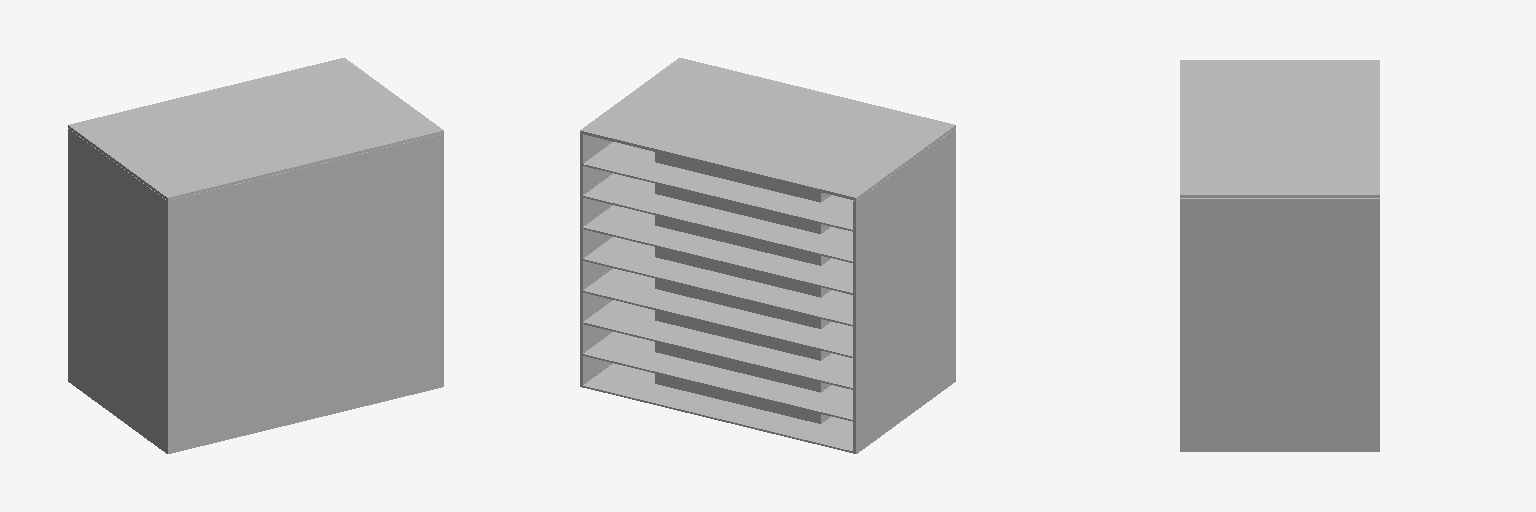
File: 赤土崎多功能館_最終版.obj
3 renders of one model, left to right at view 1: azimuth 30°, elevation 25°; view 2: azimuth 150°, elevation 25°; view 3: azimuth 270°, elevation 25°, orthographic.
Bounding box in the file's own units: 4.8 × 4.25 × 3.